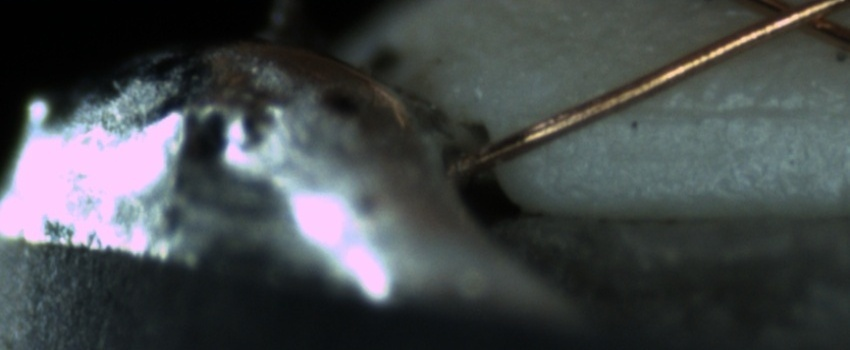CL: (732, 0, 846, 41)
DL: (581, 78, 839, 147)
